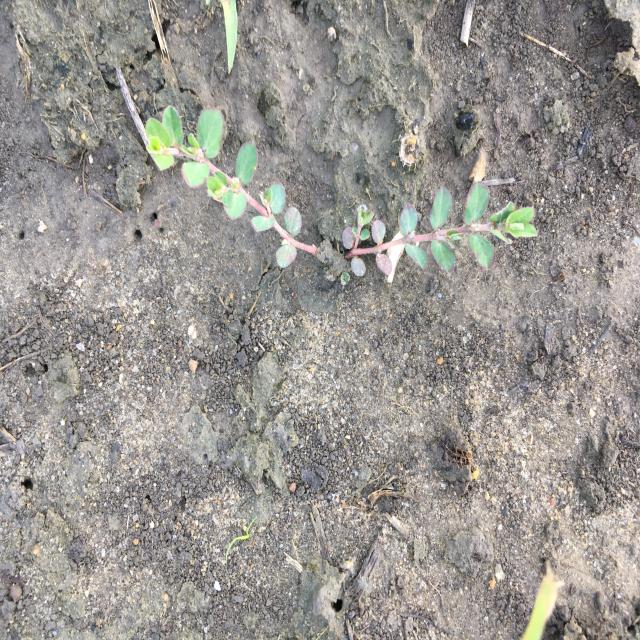SpottedSpurge: (144, 104, 540, 285)
